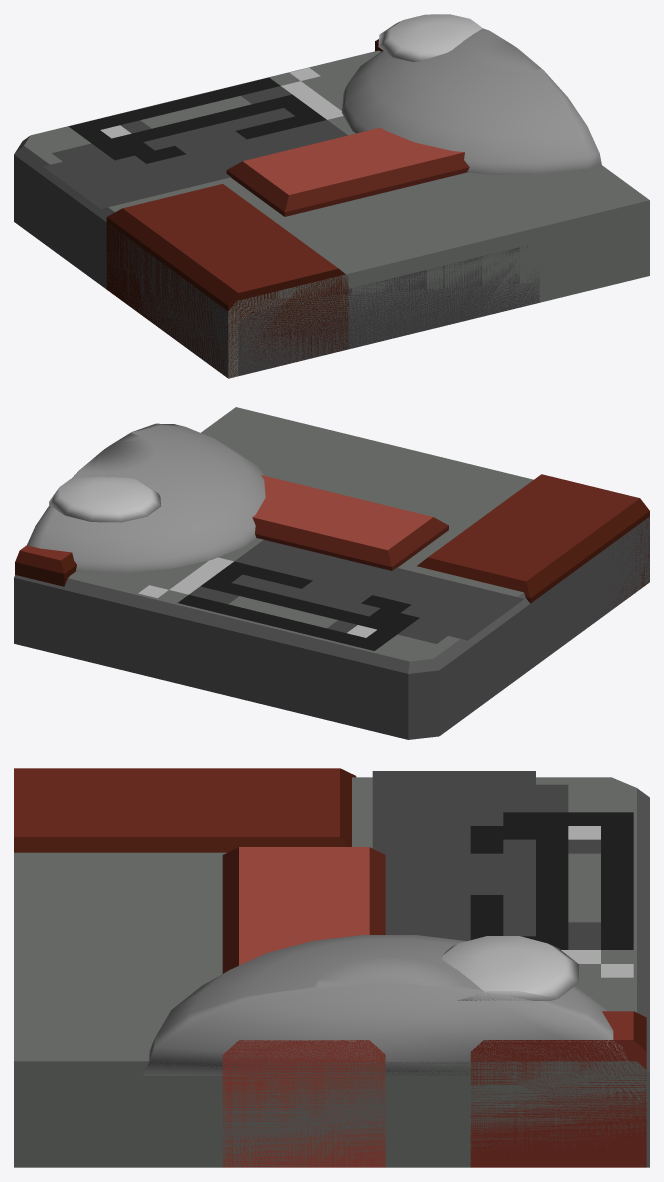
The model's file is newshs-165.glb.
The picture shows the model from 3 angles, top to bottom: view 1: azimuth 30°, elevation 25°; view 2: azimuth 150°, elevation 25°; view 3: azimuth 270°, elevation 25°; orthographic projection. The views are drawn at different scales.
Parts seen in each view (by area): view 1: newshs-165; view 2: newshs-165; view 3: newshs-165.
Boxes of the visible parts, x1,y1,x2,y2 form: newshs-165: [14, 14, 649, 378]; newshs-165: [14, 407, 649, 739]; newshs-165: [14, 768, 649, 1167].
Bounding box in the file's own units: 1.75 × 0.5185 × 1.62.
